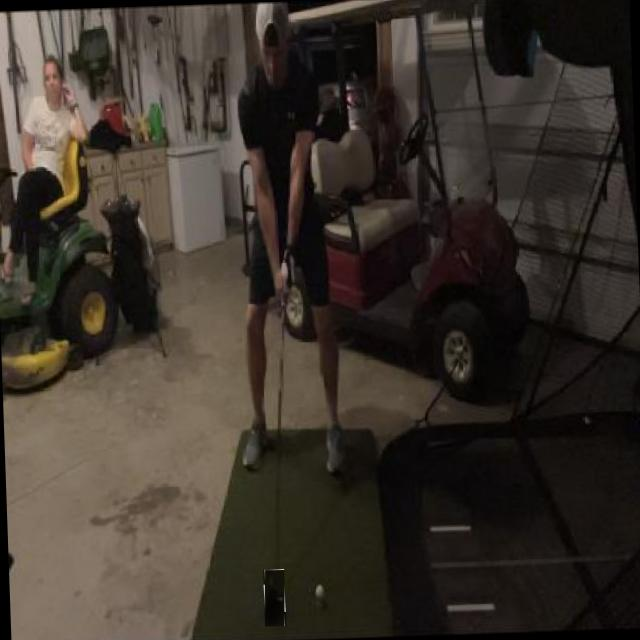club head: (262, 568, 286, 626)
